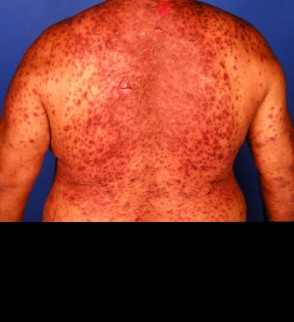SJS-TEN: (0, 0, 285, 242), (240, 97, 294, 213)
